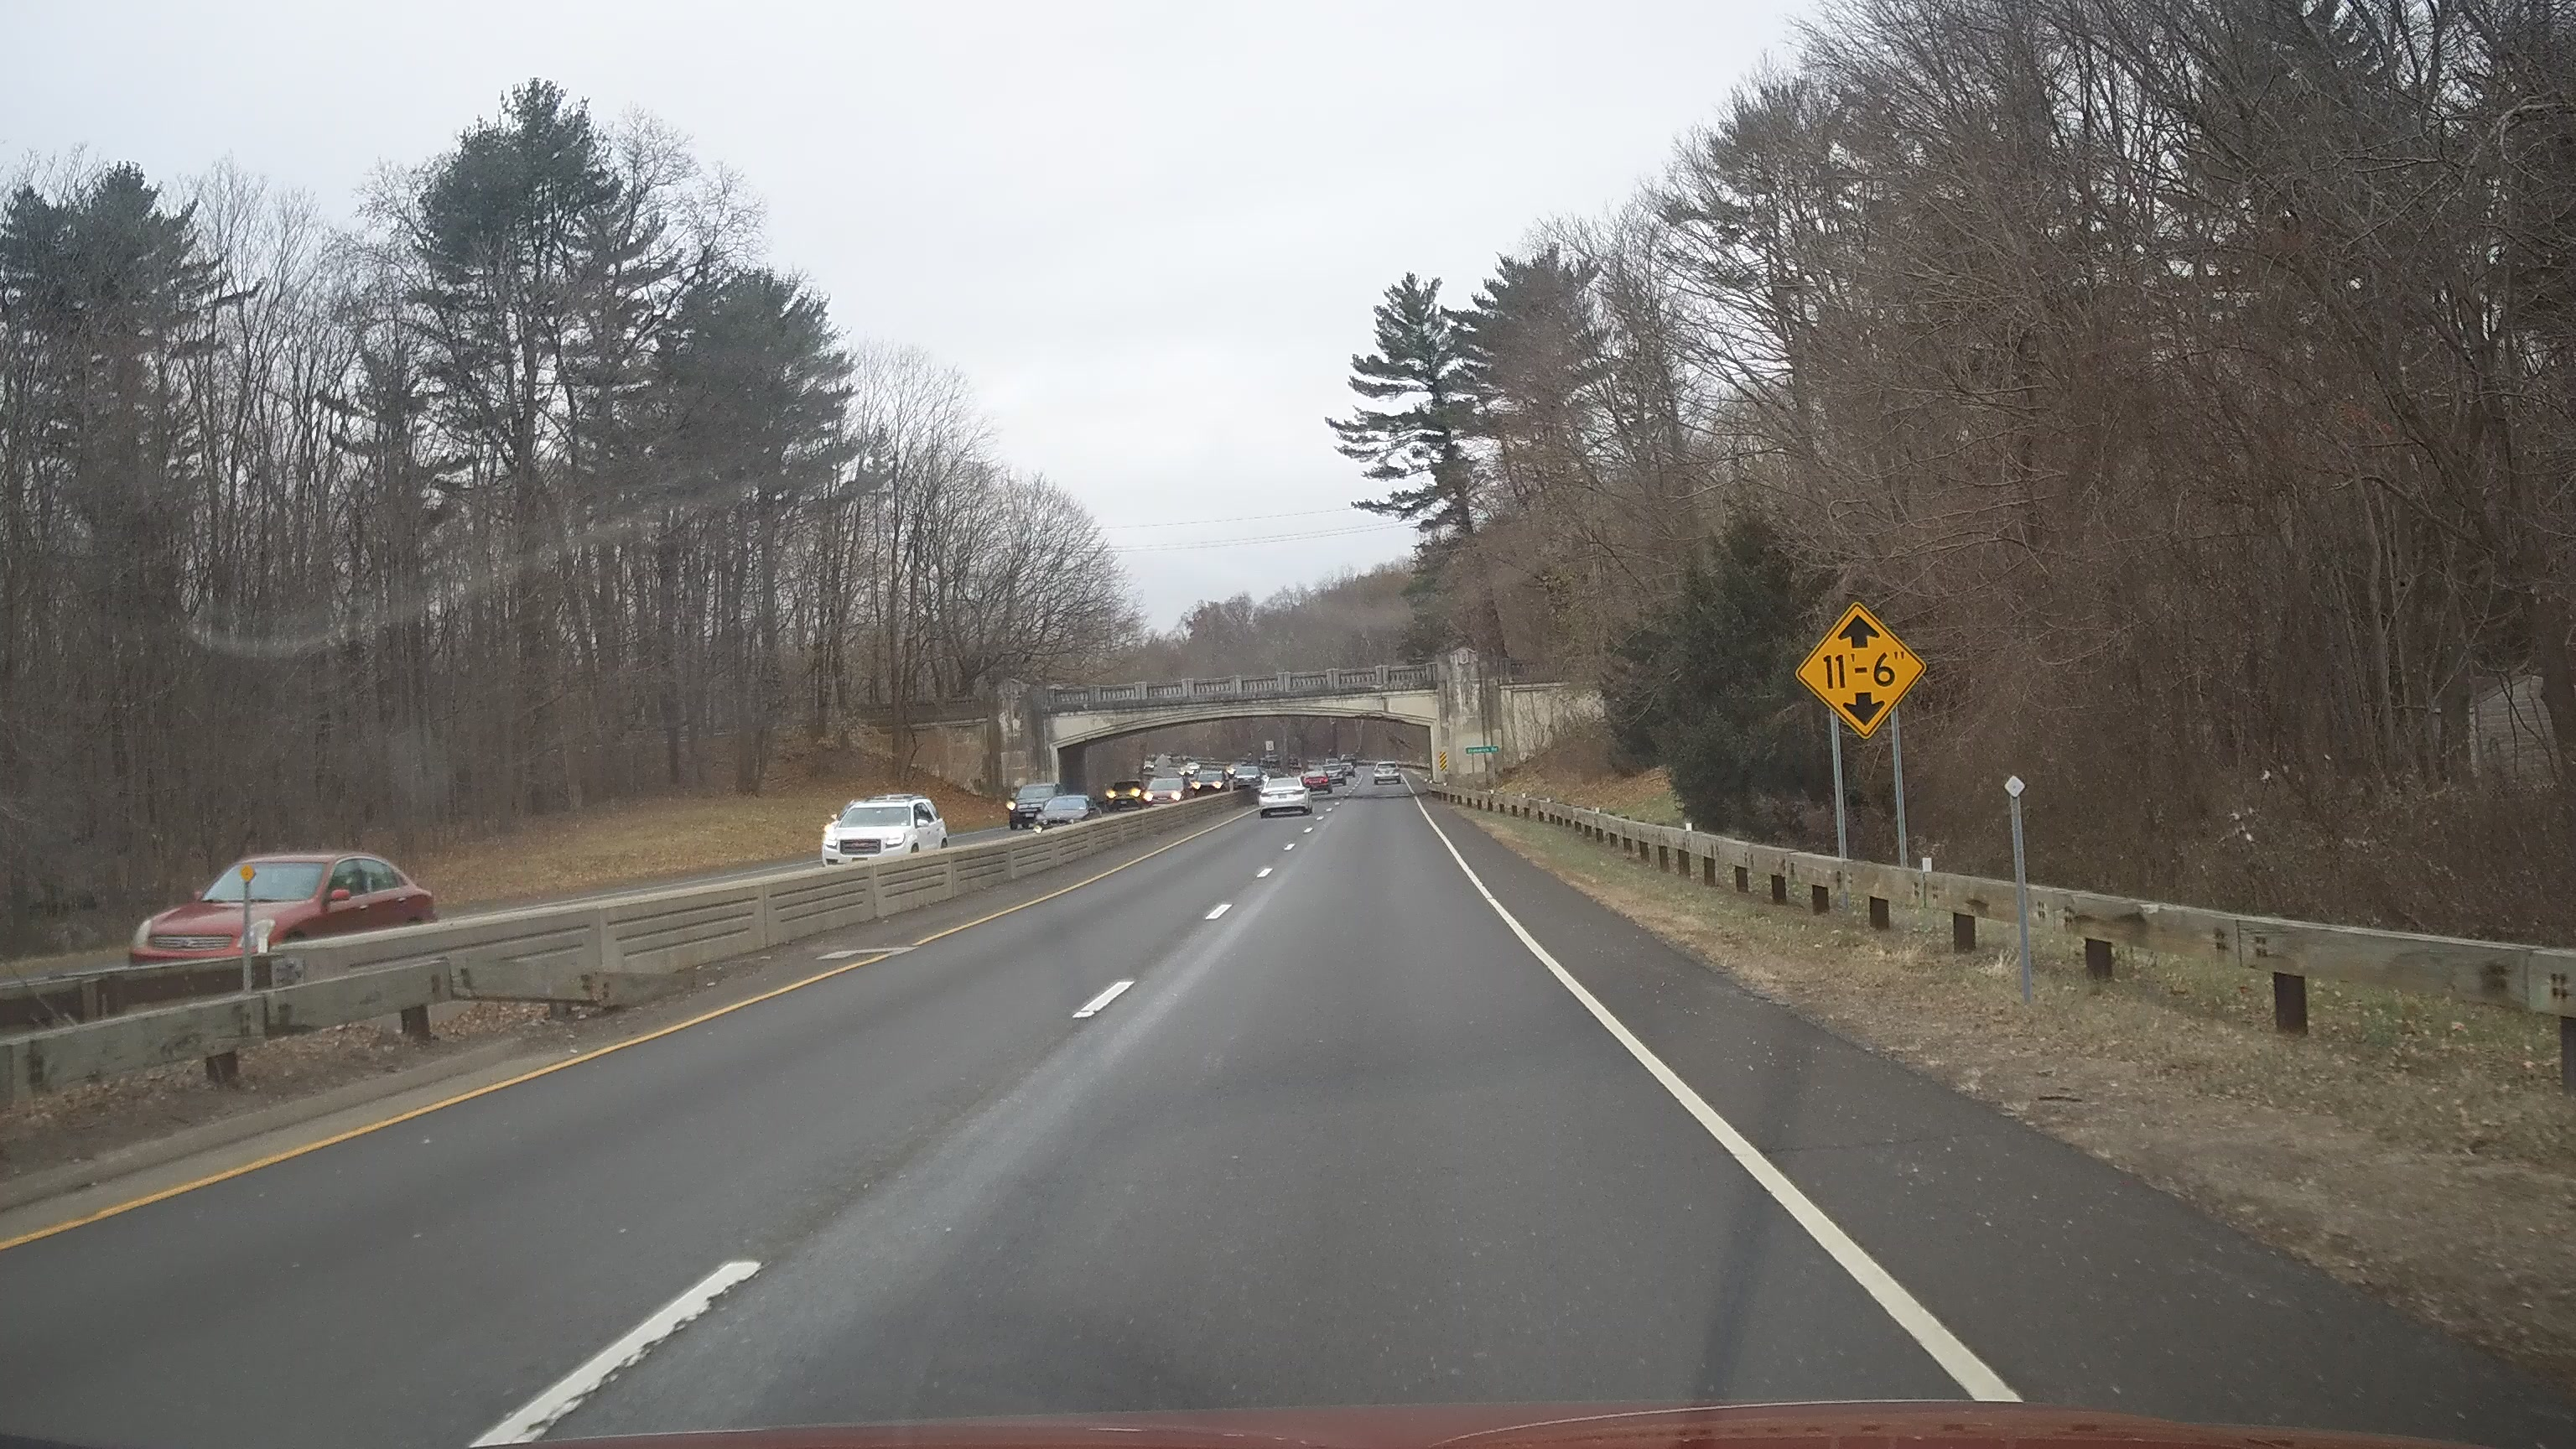low-clearance-sign: (1794, 602, 1928, 740)
